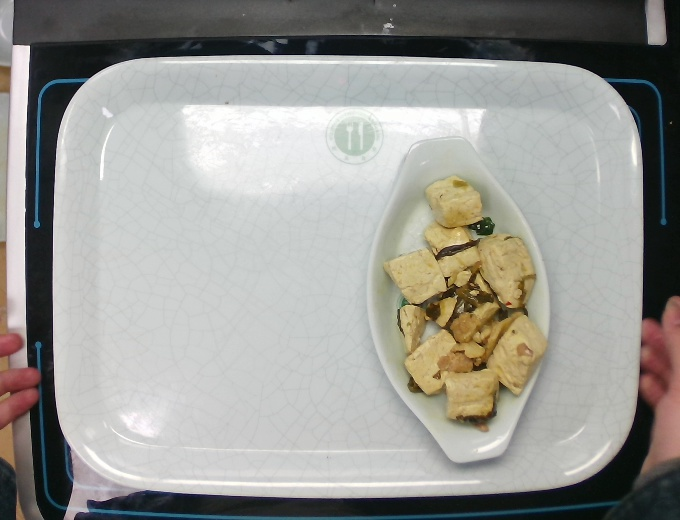JYsf-Yu_Pan: (363, 134, 552, 464)
